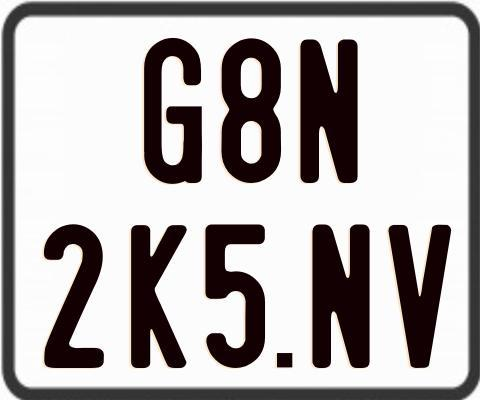2: (41, 224, 106, 369)
5: (205, 223, 270, 370)
8: (219, 35, 279, 184)
G: (143, 35, 203, 182)
K: (131, 224, 189, 373)
N: (312, 221, 376, 368), (298, 39, 361, 185)
V: (386, 225, 449, 370)
